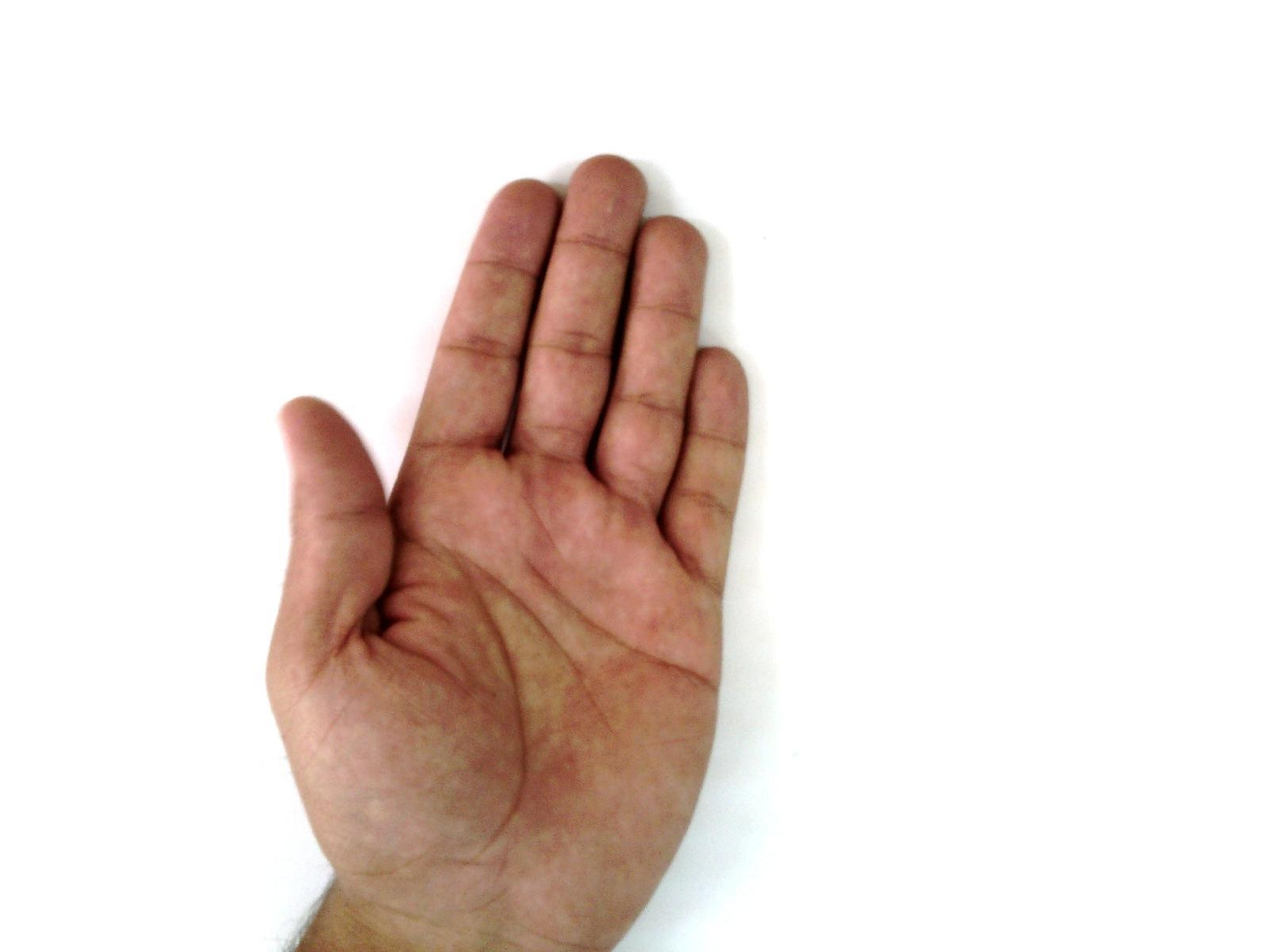open_palm: (263, 153, 753, 950)
